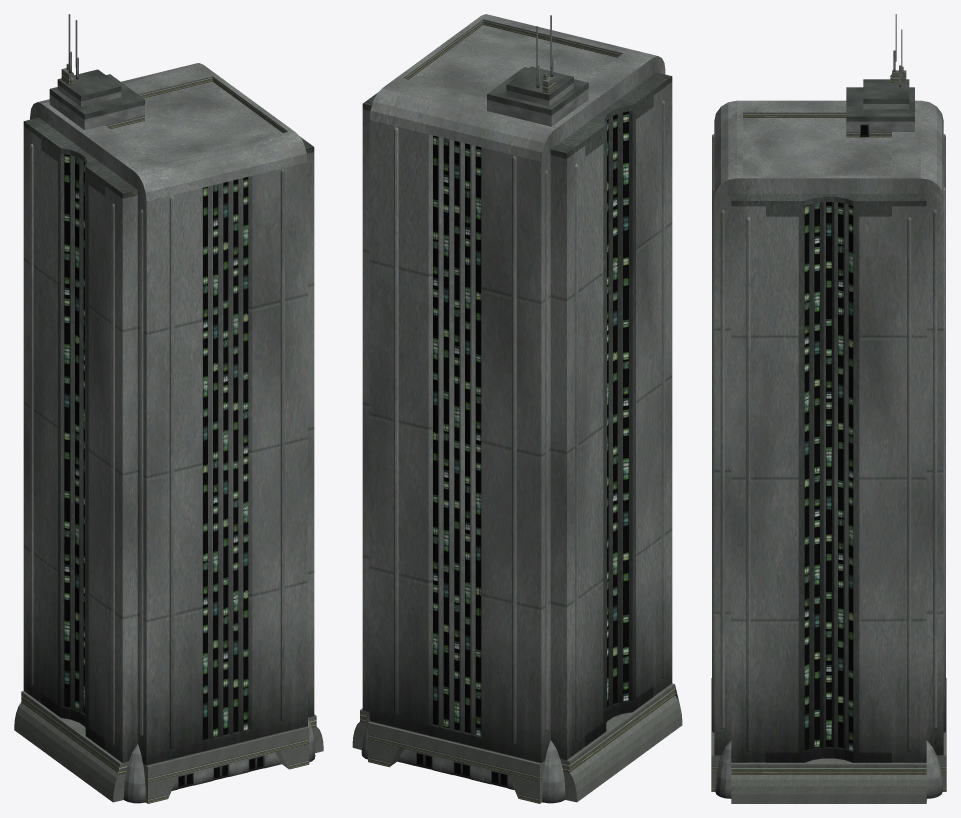
Rendered from thm_corl_imprv_building_s01_l1.fbx.
The picture shows the model from 3 angles, left to right: view 1: azimuth 30°, elevation 25°; view 2: azimuth 150°, elevation 25°; view 3: azimuth 270°, elevation 25°; orthographic projection. The views are drawn at different scales.
Parts seen in each view (by area): view 1: mesh_node; view 2: mesh_node; view 3: mesh_node.
Part boxes in pixels (x1=…): mesh_node: x1=14, y1=14, x2=323, y2=803; mesh_node: x1=352, y1=14, x2=682, y2=803; mesh_node: x1=711, y1=14, x2=946, y2=803.
Size of the model in its own units: 41.8 by 136 by 41.
